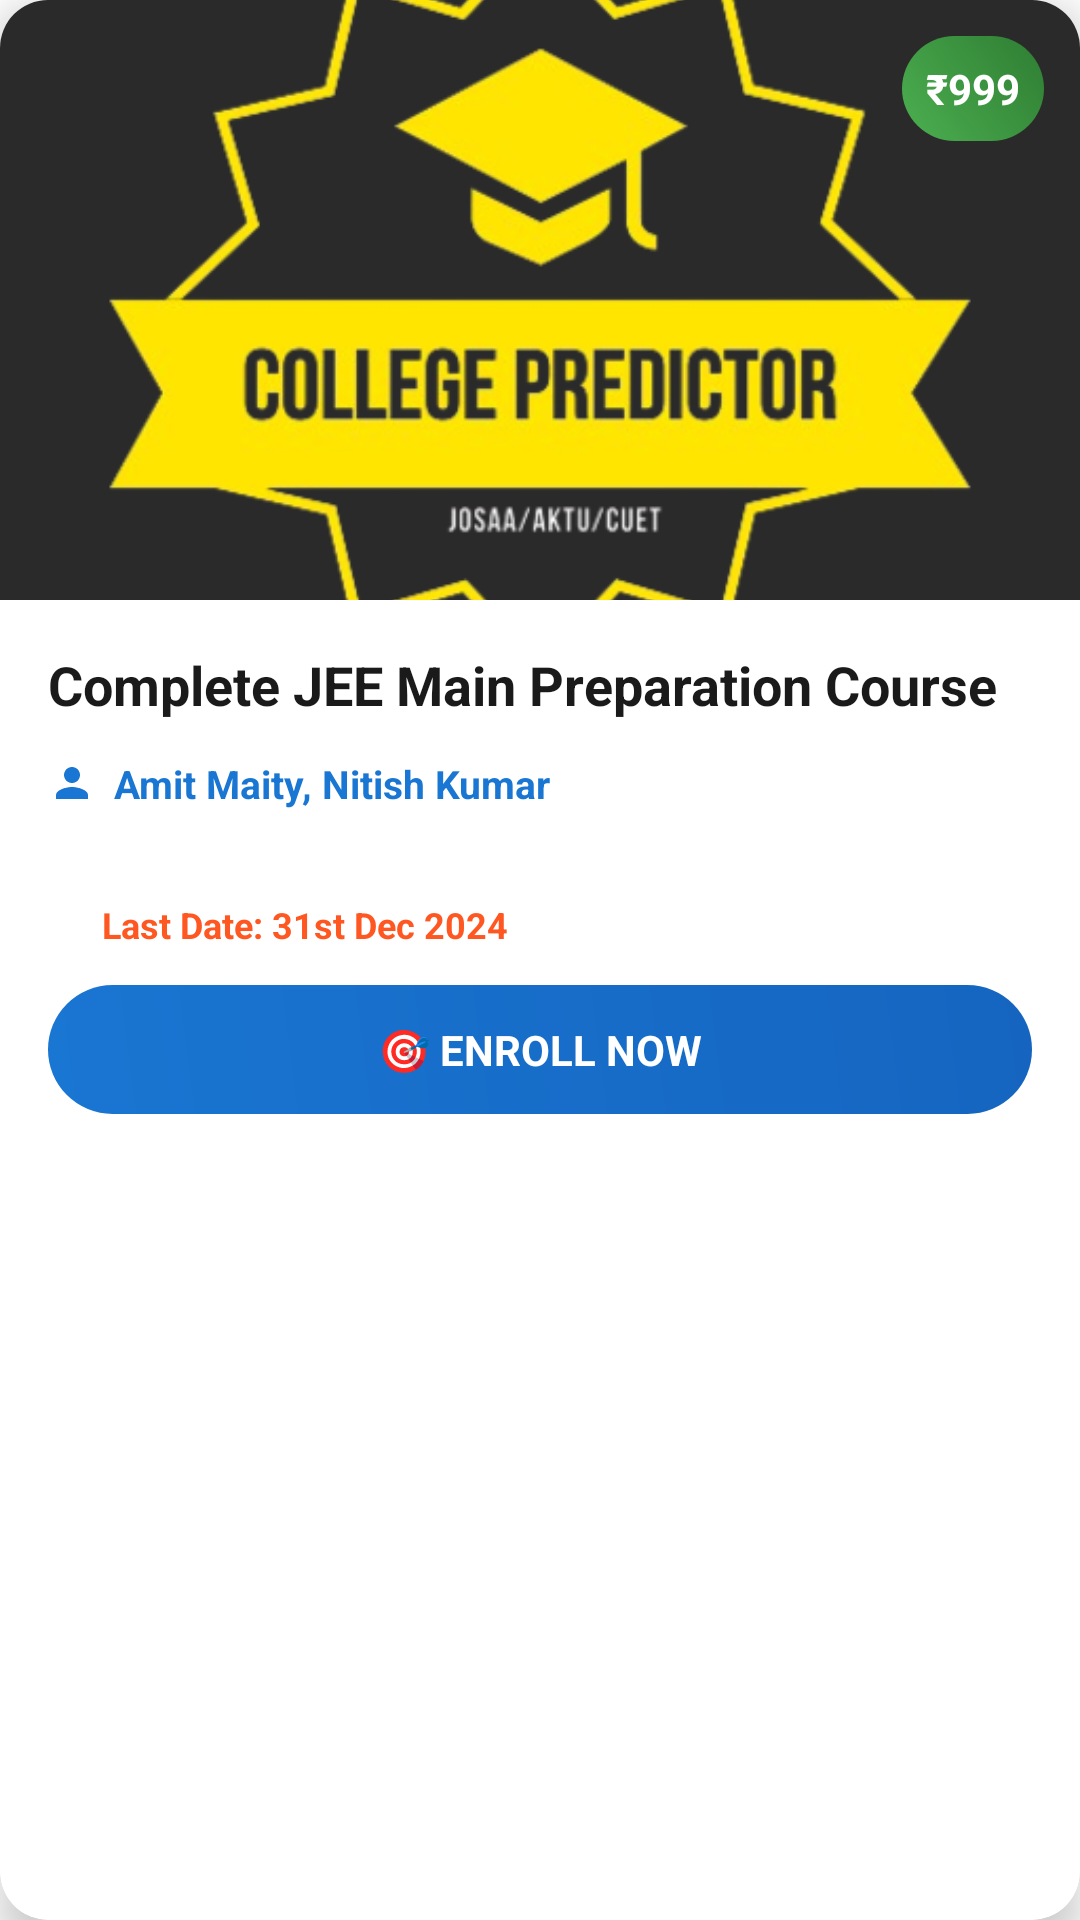

Point at icon controls on the screen. Image size 1080x1920, points as point (x, y).
person: point (72, 783)
